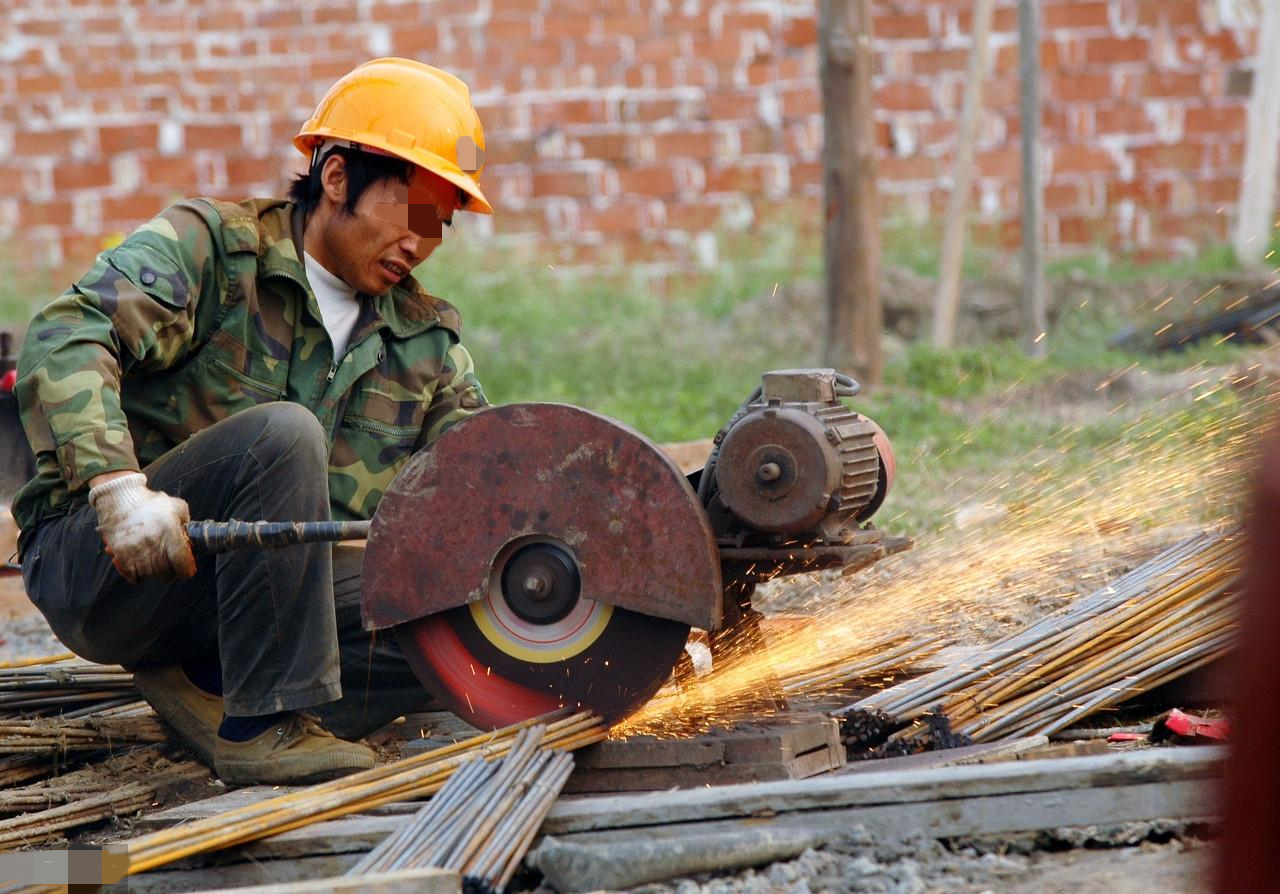cutter: (199, 367, 898, 735)
helmet: (296, 56, 494, 212)
person: (12, 55, 501, 792)
